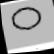no answer: (7, 1, 45, 33)
